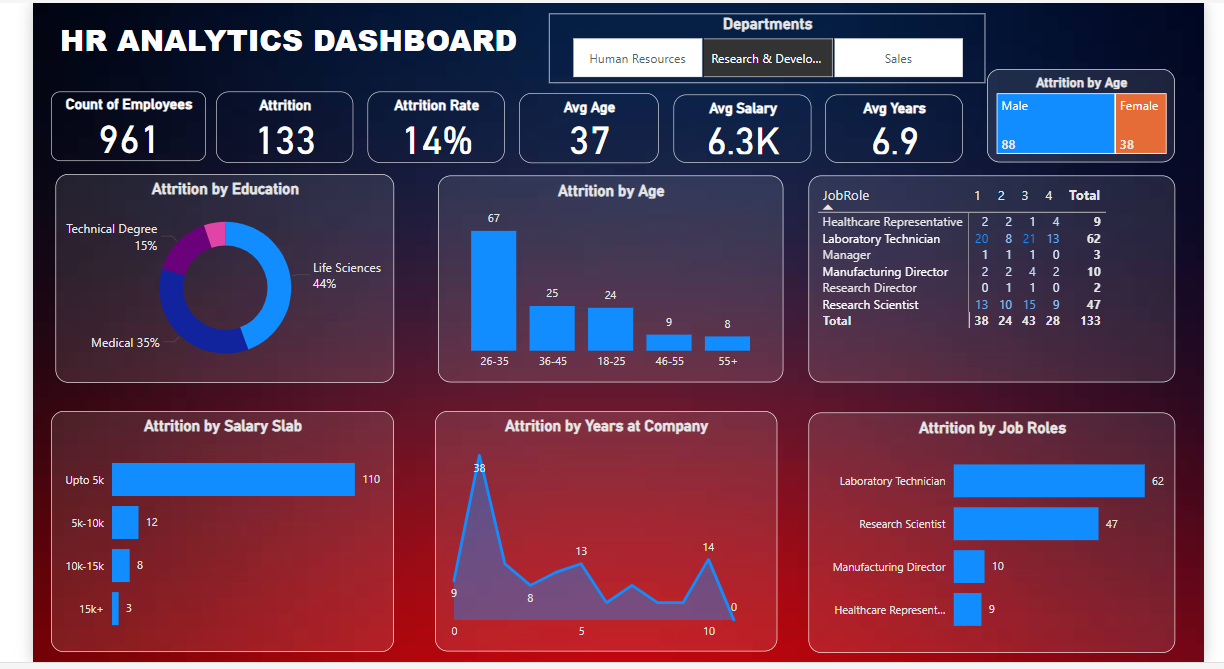

The dashboard page shown, as its layout file describes it:
{"tool":"powerbi","page":{"name":"Page 1","canvas":[1280,720],"ordinal":0},"visuals":[{"type":"card","title":"Count of Employees","fields":{"Values":["CountNonNull(HR_Analytics.EmpID)"]},"box":[19.5,97.3,169.3,75.9],"z":0},{"type":"card","title":"Attrition ","fields":{"Values":["Sum(HR_Analytics.AttritionCount)"]},"box":[200.5,97.3,149.9,77.9],"z":1000},{"type":"card","title":"Attrition Rate","fields":{"Values":["HR_Analytics.AttritionRate"]},"box":[365.9,97.3,149.9,77.9],"z":2000},{"type":"card","title":"Avg Age","fields":{"Values":["Avg(HR_Analytics.Age)"]},"box":[530.9,98.2,152.7,76.4],"z":3000},{"type":"card","title":"Avg Salary","fields":{"Values":["Avg(HR_Analytics.MonthlyIncome)"]},"box":[700,100,150.9,74.5],"z":4000},{"type":"card","title":"Avg Years","fields":{"Values":["Avg(HR_Analytics.YearsAtCompany)"]},"box":[865.5,100,150.9,74.5],"z":5000},{"type":"donutChart","title":"Attrition by Education","fields":{"Category":["HR_Analytics.EducationField"],"Y":["Sum(HR_Analytics.AttritionCount)"]},"box":[25.3,186.8,369.8,227.7],"z":6000},{"type":"columnChart","title":"Attrition by Age","fields":{"Category":["HR_Analytics.AgeGroup"],"Y":["Sum(HR_Analytics.AttritionCount)"]},"box":[441.8,188.8,377.6,225.8],"z":7000},{"type":"pivotTable","fields":{"Rows":["HR_Analytics.JobRole"],"Columns":["HR_Analytics.JobSatisfaction"],"Values":["Sum(HR_Analytics.AttritionCount)"]},"box":[846.6,188.8,400.9,225.8],"z":8000},{"type":"barChart","title":"Attrition by Salary Slab","fields":{"Category":["HR_Analytics.SalarySlab"],"Y":["Sum(HR_Analytics.AttritionCount)"]},"box":[20,445.5,374.5,263.6],"z":9000},{"type":"barChart","title":"Attrition by Job Roles","fields":{"Category":["HR_Analytics.JobRole"],"Y":["Sum(HR_Analytics.AttritionCount)"]},"box":[846.6,447.7,400.9,262.8],"z":10000},{"type":"areaChart","title":"Attrition by Years at Company","fields":{"Category":["HR_Analytics.YearsAtCompany"],"Y":["Sum(HR_Analytics.AttritionCount)"]},"box":[439.9,445.7,373.7,262.8],"z":11000},{"type":"treemap","title":"Attrition by Age","fields":{"Group":["HR_Analytics.Gender"],"Values":["Sum(HR_Analytics.AttritionCount)"]},"box":[1041.8,72.7,205.5,101.8],"z":12000},{"type":"slicer","title":"Departments","fields":{"Values":["HR_Analytics.Department"]},"box":[564.4,11.7,476.8,75.9],"z":13000},{"type":"textbox","box":[25.3,11.7,570.3,75.9],"z":14000}]}

Visuals, with their boxes in screenshot pixels (x1, y1, x2, y2), scaled from the page's 1280x720 canvas onto the 1224x669 screenshot:
"Count of Employees" card: <region>19, 90, 181, 161</region>
"Attrition " card: <region>192, 90, 335, 163</region>
"Attrition Rate" card: <region>350, 90, 493, 163</region>
"Avg Age" card: <region>508, 91, 654, 162</region>
"Avg Salary" card: <region>669, 93, 814, 162</region>
"Avg Years" card: <region>828, 93, 972, 162</region>
"Attrition by Education" donutChart: <region>24, 174, 378, 385</region>
"Attrition by Age" columnChart: <region>422, 175, 784, 385</region>
pivotTable - HR_Analytics.JobRole x HR_Analytics.JobSatisfaction: <region>810, 175, 1193, 385</region>
"Attrition by Salary Slab" barChart: <region>19, 414, 377, 659</region>
"Attrition by Job Roles" barChart: <region>810, 416, 1193, 660</region>
"Attrition by Years at Company" areaChart: <region>421, 414, 778, 658</region>
"Attrition by Age" treemap: <region>996, 68, 1193, 162</region>
"Departments" slicer: <region>540, 11, 996, 81</region>
textbox: <region>24, 11, 570, 81</region>
